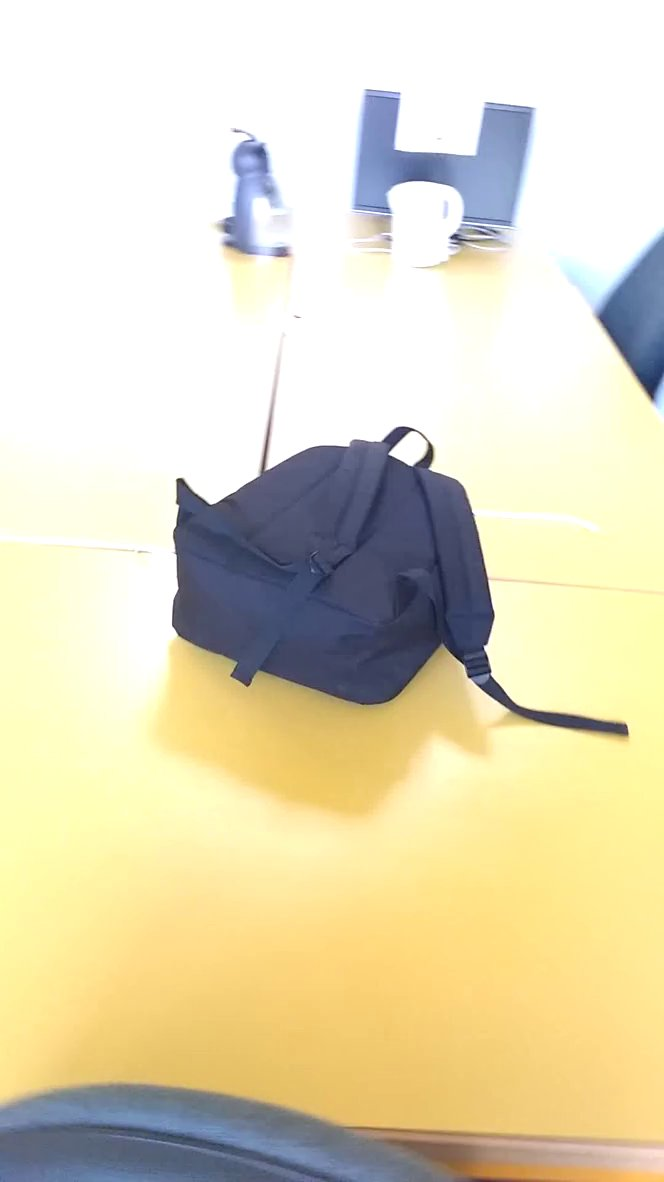bag: (152, 401, 642, 746)
